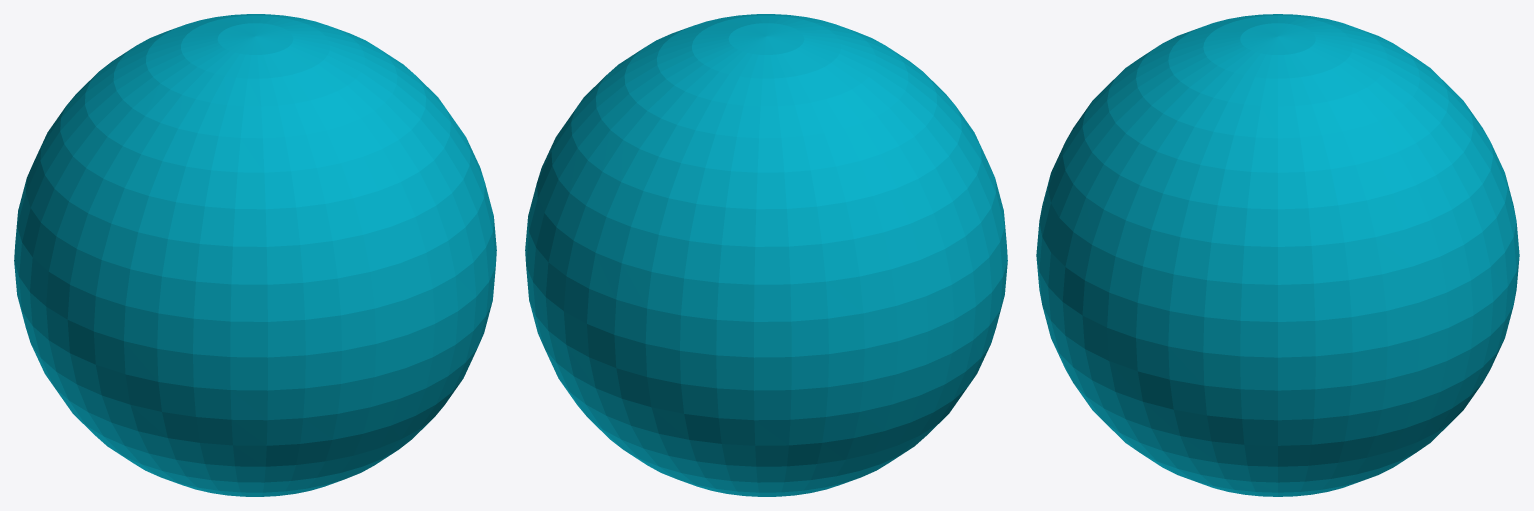
File: water_sphere.glb
3 views of the same model, side by side, from view 1: azimuth 30°, elevation 25°; view 2: azimuth 150°, elevation 25°; view 3: azimuth 270°, elevation 25° (orthographic).
Visible parts, largest first — view 1: Mesh_Mesh_head_geo.001_lambert2SG.001; view 2: Mesh_Mesh_head_geo.001_lambert2SG.001; view 3: Mesh_Mesh_head_geo.001_lambert2SG.001.
Boxes of the visible parts, x1,y1,x2,y2 form: Mesh_Mesh_head_geo.001_lambert2SG.001: [14, 14, 496, 496]; Mesh_Mesh_head_geo.001_lambert2SG.001: [525, 14, 1007, 496]; Mesh_Mesh_head_geo.001_lambert2SG.001: [1036, 14, 1519, 496].
Size of the model in its own units: 25 by 25 by 25.
